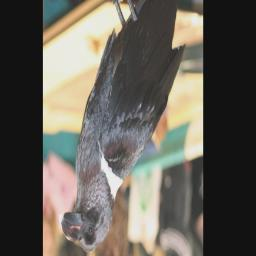Crow: (58, 0, 188, 254)
